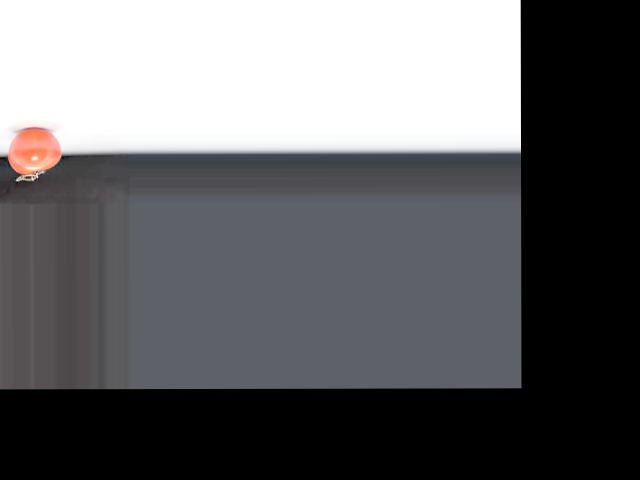tomato: (8, 127, 62, 174)
